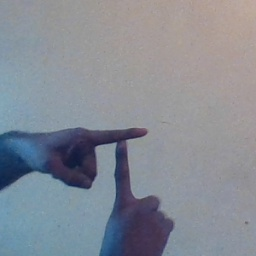T: (63, 121, 173, 228)
